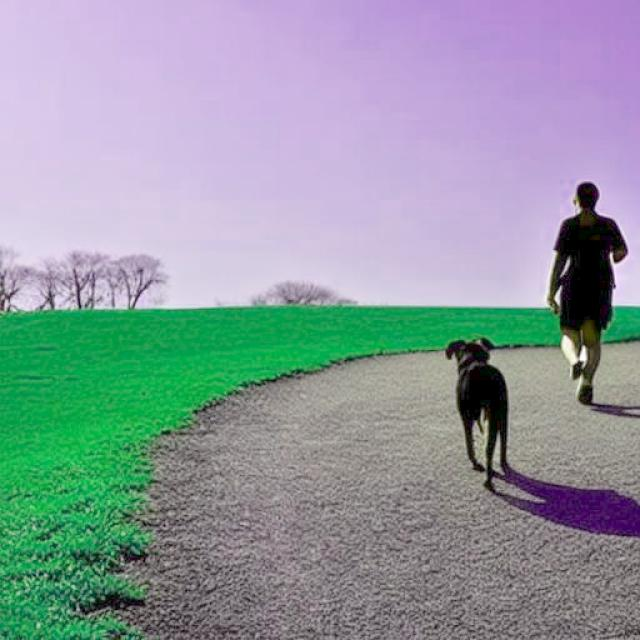Unleashed_Dog: (444, 272, 614, 487)
